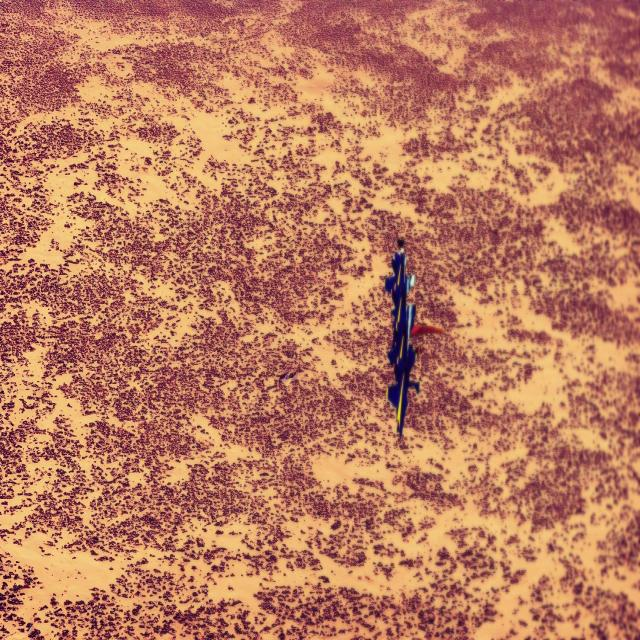airplane: (384, 236, 444, 438)
